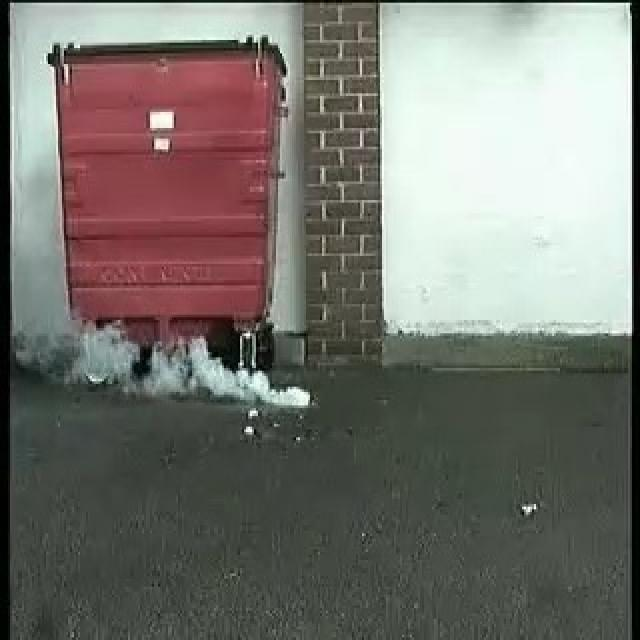smoke: (60, 319, 312, 412)
